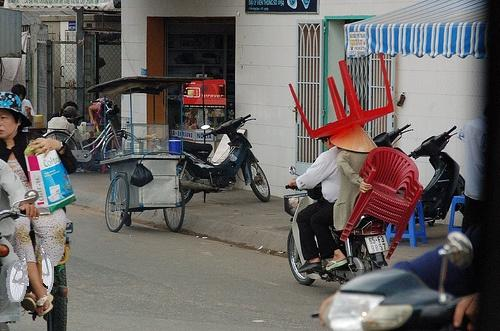tampered: (7, 237, 54, 302)
